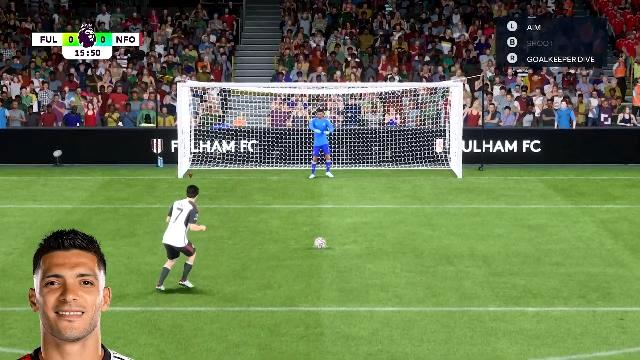bottom-left: (183, 135, 275, 179)
bottom-right: (374, 134, 456, 180)
center-down: (276, 134, 372, 180)
center-up: (276, 88, 372, 132)
circle: (314, 246, 326, 248)
football: (314, 238, 326, 246)
goalkeeper: (306, 109, 338, 181)
player: (155, 184, 207, 296)
top-left: (183, 88, 275, 132)
top-right: (373, 88, 457, 132)
